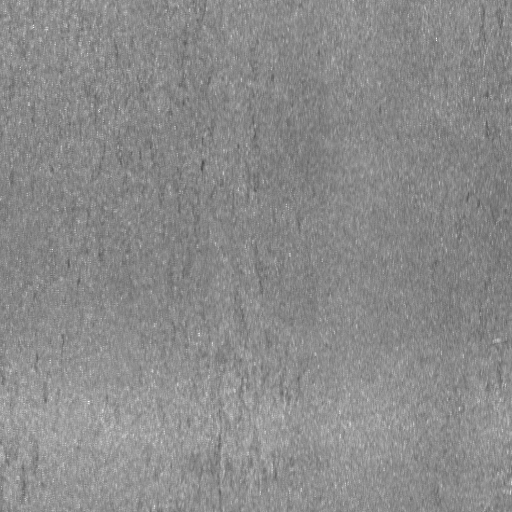zongxiangliewen: (213, 406, 227, 512), (194, 123, 209, 211)
